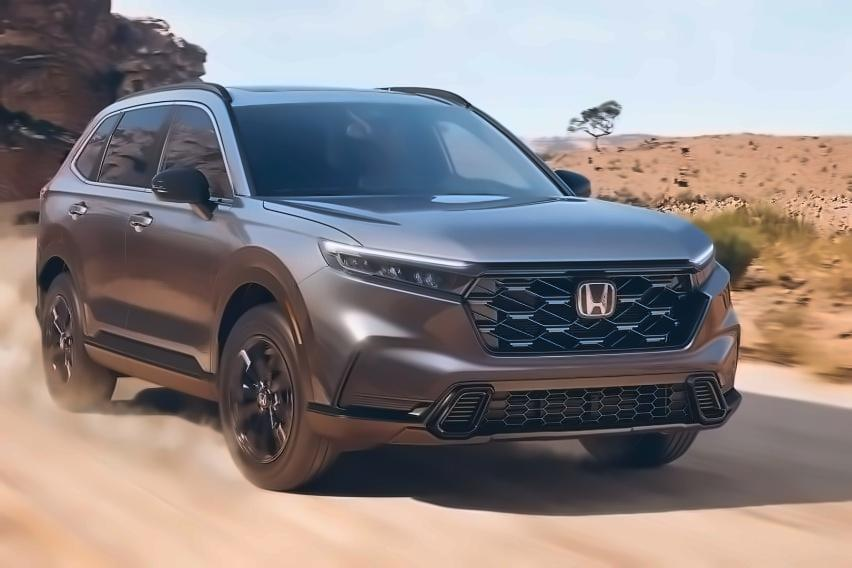Car hood: (264, 184, 723, 268)
Driver-s door - -F-R-: (123, 87, 221, 387)
Fender - -F-R-: (212, 175, 360, 402)
Fender - -R-R-: (34, 196, 71, 286)
Front bumper: (292, 278, 763, 458)
Headlight - -L-: (669, 223, 730, 296)
Headlight - -R-: (313, 232, 481, 301)
Passenger-s door - -R-R-: (59, 99, 154, 366)
Rear bumper: (26, 233, 54, 335)
Rear light - -R-: (23, 173, 63, 218)
Side bumper - -R-: (64, 323, 229, 408)
Side mirror - -L-: (539, 157, 611, 208)
Side mirror - -R-: (146, 159, 225, 230)
